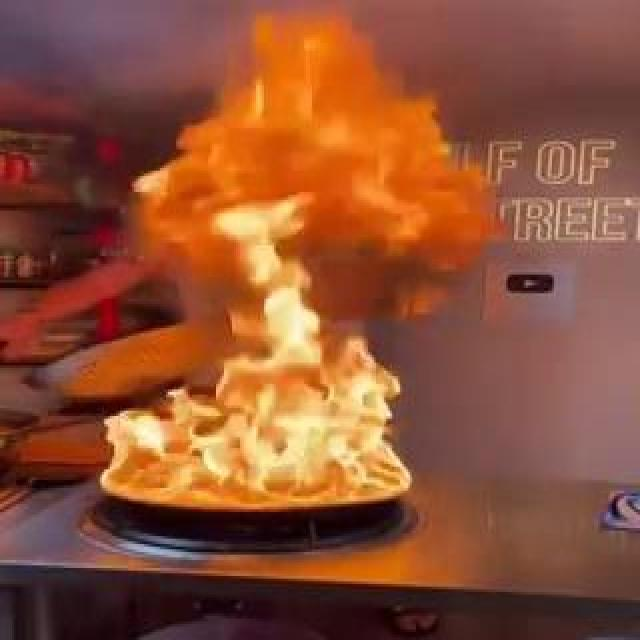Fire: (82, 124, 440, 513)
